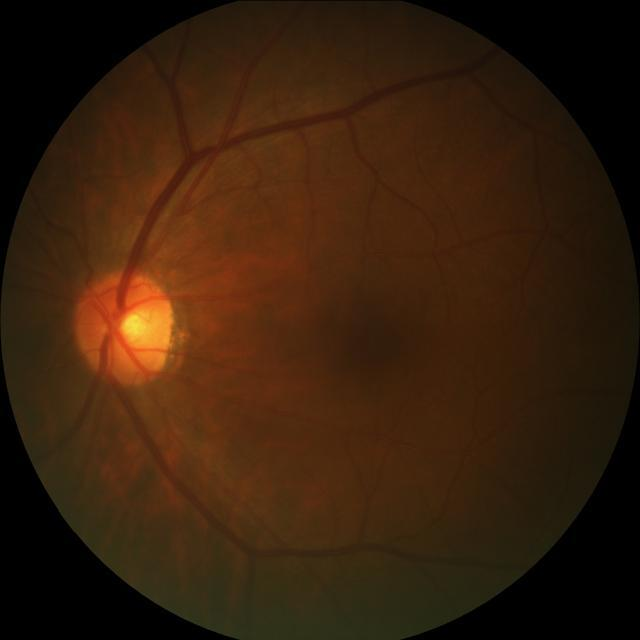OC: (118, 312, 151, 343)
OD: (78, 270, 178, 383)
